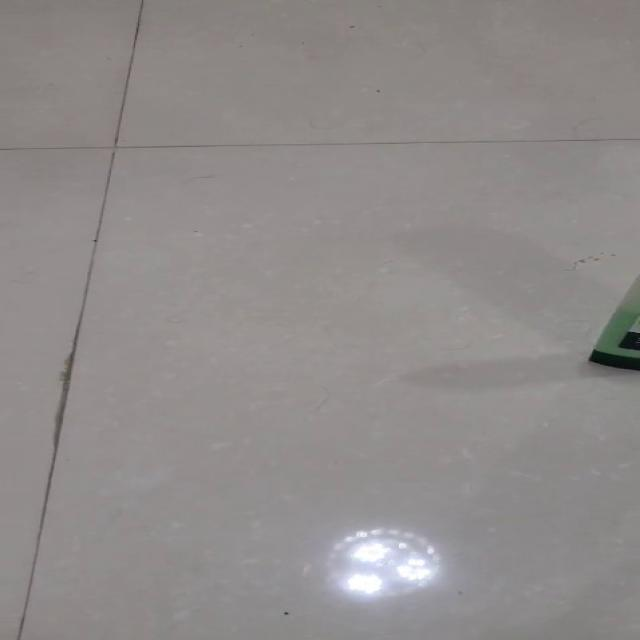plastic: (586, 272, 638, 370)
